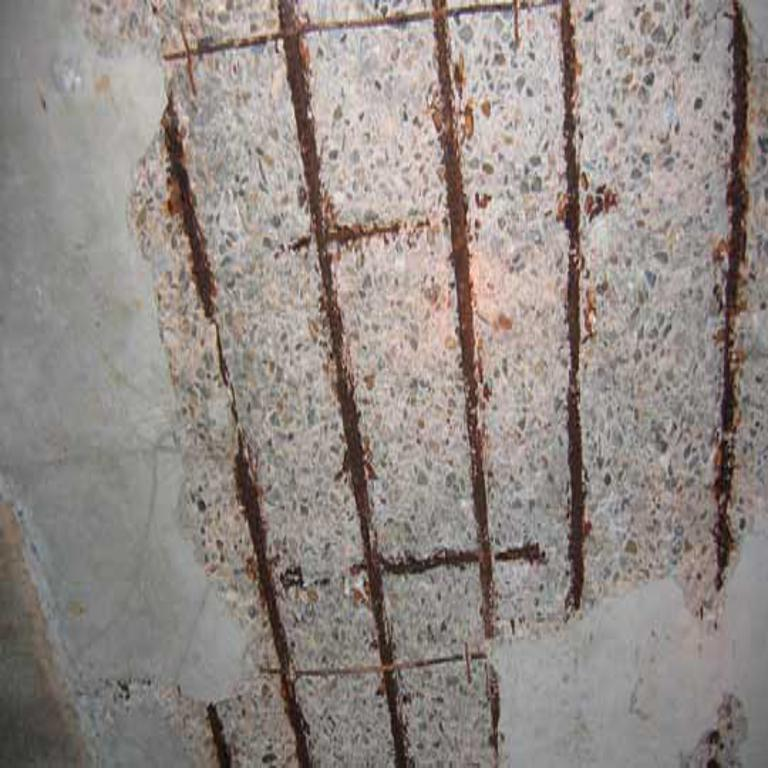exposed_rebar: (162, 95, 313, 768), (279, 0, 410, 768), (433, 0, 495, 639), (712, 0, 750, 590), (561, 1, 586, 610), (164, 30, 284, 62), (302, 12, 432, 33), (381, 548, 480, 574), (207, 704, 231, 768), (492, 543, 546, 564), (448, 0, 516, 16), (518, 1, 560, 10)
spalling: (86, 0, 768, 768), (682, 693, 747, 768)
